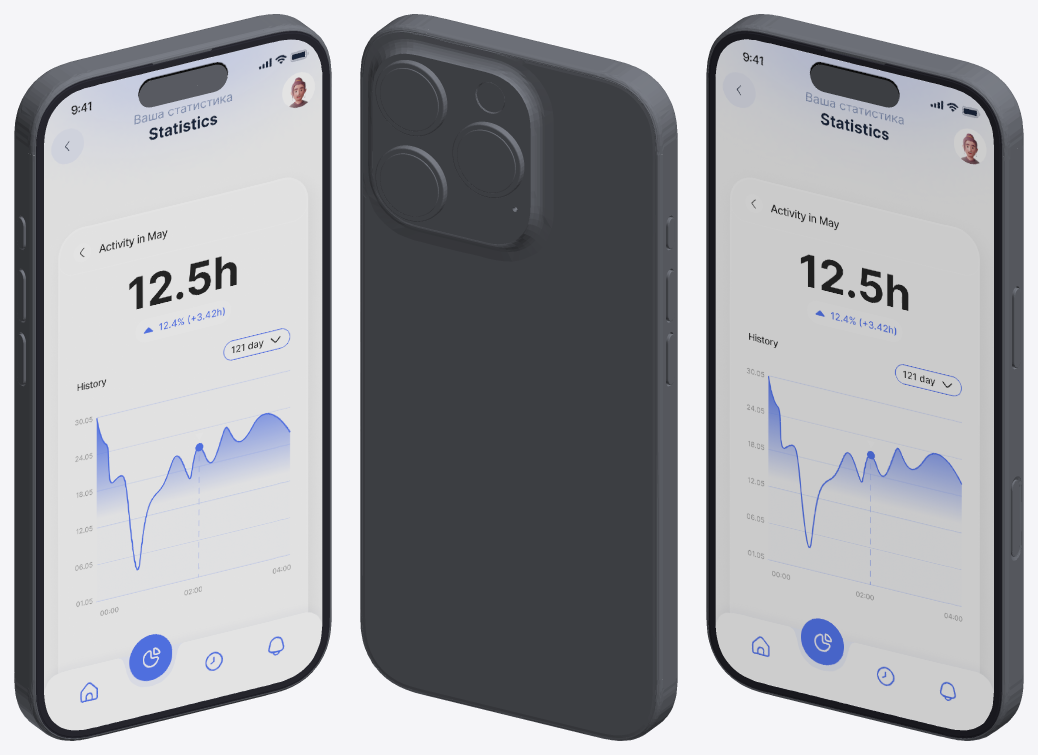
File: iphone-statistics-draco.glb
The picture shows the model from 3 angles, left to right: view 1: azimuth 30°, elevation 25°; view 2: azimuth 150°, elevation 25°; view 3: azimuth 330°, elevation 25°; orthographic projection.
Parts seen in each view (by area): view 1: display, edge-a, edge-display, frontal-camera-1; view 2: back, edge-a, back-camera, back-camera-lente-2-a, back-camera-lente-3-a, back-camera-lente-1-b, back-camera-lente-3-d, back-camera-lente-2-d, back-camera-lente-1-a, back-camera-flash-a; view 3: display, edge-a, edge-display, frontal-camera-1, button-4, button-5-center.
Part boxes in pixels (x1=…): display: x1=44, y1=39, x2=322, y2=730; edge-a: x1=14, y1=14, x2=331, y2=740; edge-display: x1=36, y1=31, x2=329, y2=738; frontal-camera-1: x1=139, y1=64, x2=227, y2=107; back: x1=362, y1=31, x2=655, y2=738; edge-a: x1=360, y1=14, x2=677, y2=740; back-camera: x1=372, y1=53, x2=530, y2=244; back-camera-lente-2-a: x1=458, y1=132, x2=513, y2=191; back-camera-lente-3-a: x1=381, y1=156, x2=436, y2=214; back-camera-lente-1-b: x1=381, y1=70, x2=436, y2=129; back-camera-lente-3-d: x1=375, y1=145, x2=447, y2=221; back-camera-lente-2-d: x1=452, y1=121, x2=524, y2=198; back-camera-lente-1-a: x1=375, y1=60, x2=447, y2=136; back-camera-flash-a: x1=477, y1=82, x2=504, y2=112; display: x1=715, y1=39, x2=993, y2=730; edge-a: x1=706, y1=14, x2=1023, y2=740; edge-display: x1=708, y1=31, x2=1001, y2=738; frontal-camera-1: x1=810, y1=64, x2=898, y2=107; button-4: x1=1012, y1=287, x2=1020, y2=367; button-5-center: x1=1012, y1=481, x2=1019, y2=555.
Size of the model in its own units: 7.17 by 14.92 by 1.21.
Materials: 3 (1 with a texture image).
